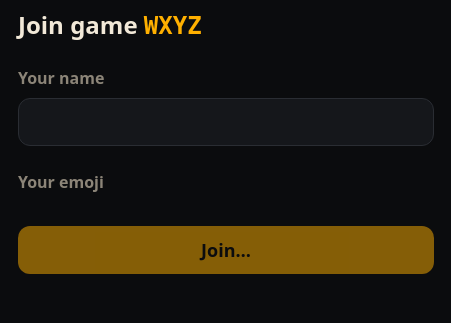
Scenario: Play › shows a full game on the form
In the field labelled "Your name": (226,122) [18,98,434,146], type "Ana"
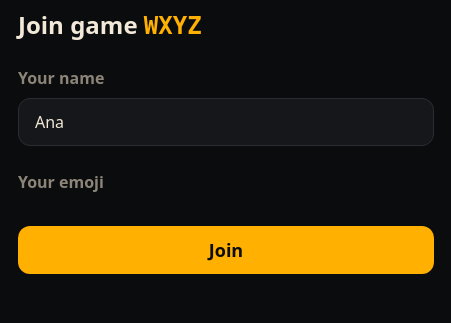
Click the button "Join": (226,250) [18,226,434,274]
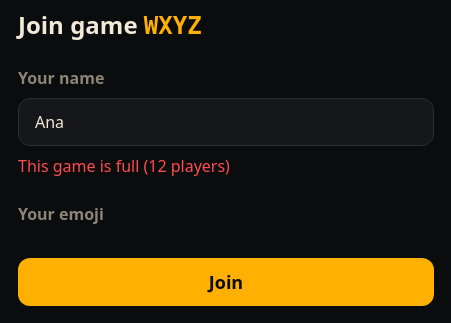
Expected: the message reads "This game is full (12 players)", [18,155,230,177]
